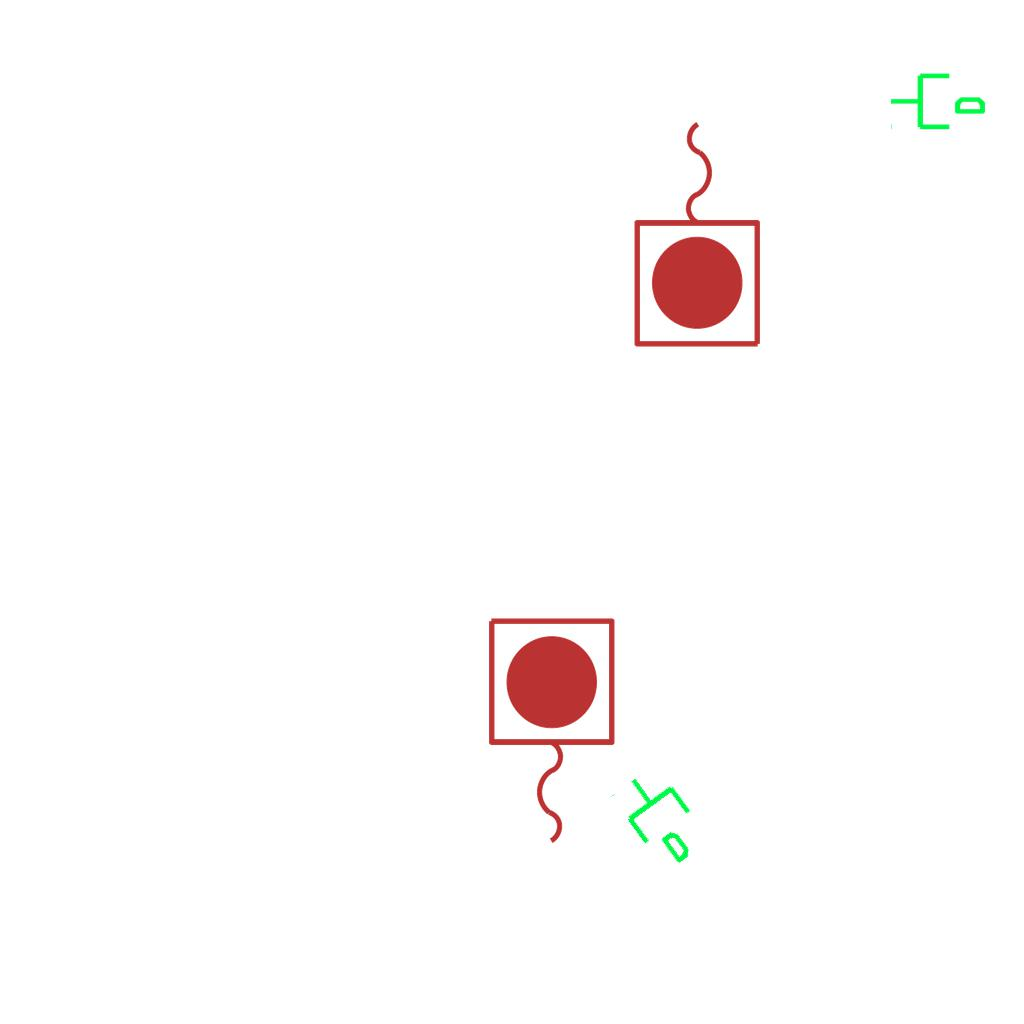Datenanschluss_einfach: (605, 756, 720, 878), (888, 65, 988, 134)
Zugtaster: (478, 610, 622, 854), (627, 111, 771, 355)
